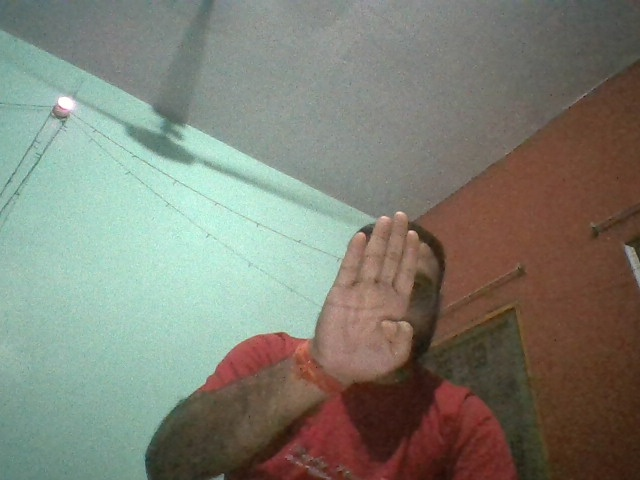hello: (320, 211, 419, 368)
